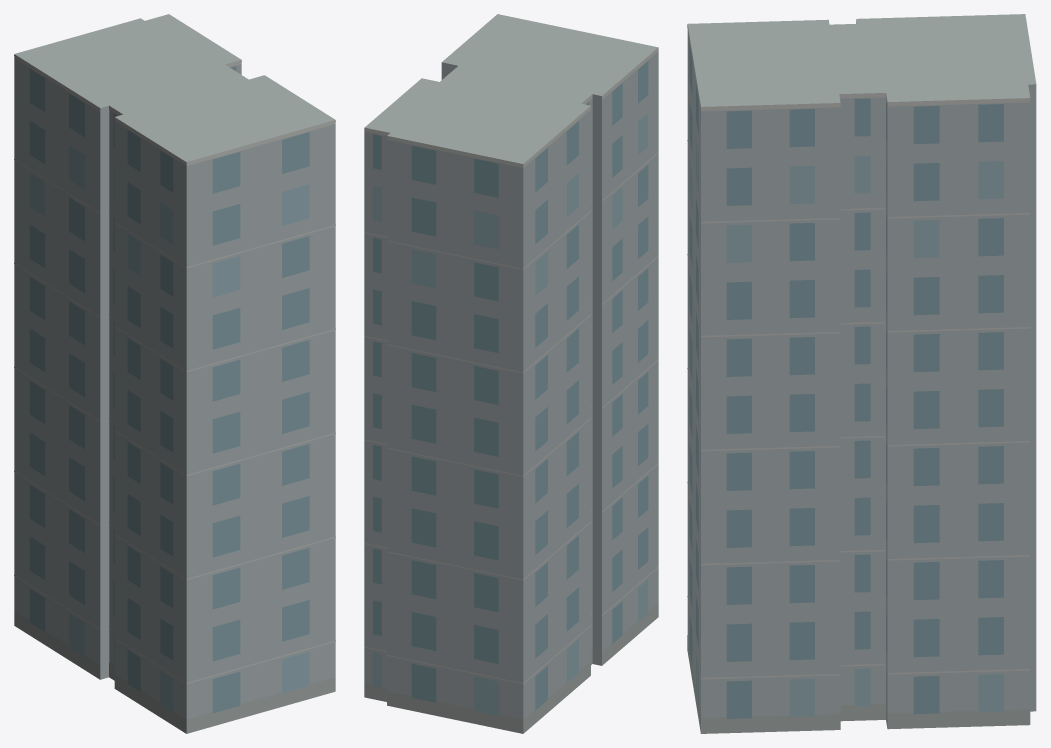
File: survey-upis-32739871.glb
The picture shows the model from 3 angles, left to right: view 1: azimuth 30°, elevation 25°; view 2: azimuth 150°, elevation 25°; view 3: azimuth 270°, elevation 25°; orthographic projection. The views are drawn at different scales.
Parts seen in each view (by area): view 1: survey-upis-32739871.tmp; view 2: survey-upis-32739871.tmp; view 3: survey-upis-32739871.tmp.
Boxes of the visible parts, box(x1,y1,x2,y2) form: survey-upis-32739871.tmp: box(14, 14, 335, 733); survey-upis-32739871.tmp: box(364, 14, 658, 733); survey-upis-32739871.tmp: box(687, 14, 1036, 733).
Bounding box in the file's own units: 11.12 × 34.9 × 17.63.
